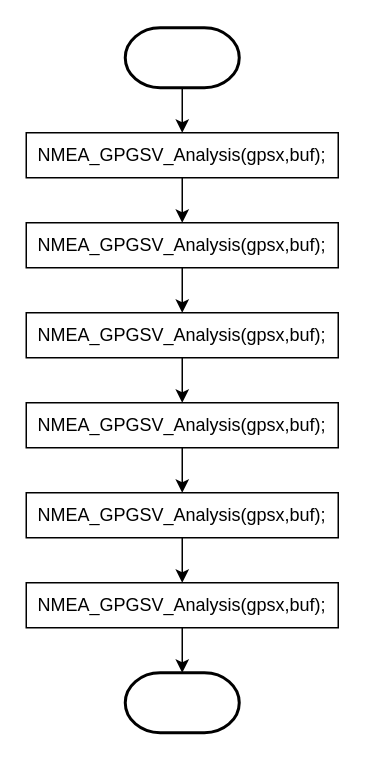
Some shapes in this 365 by 759 pixel diagram are drawn without their labels. Here are the shapes that lost their labels. From the top down, the centre of each, then its label:
At pixel 181 57: "开始".
At pixel 181 702: "结束".
